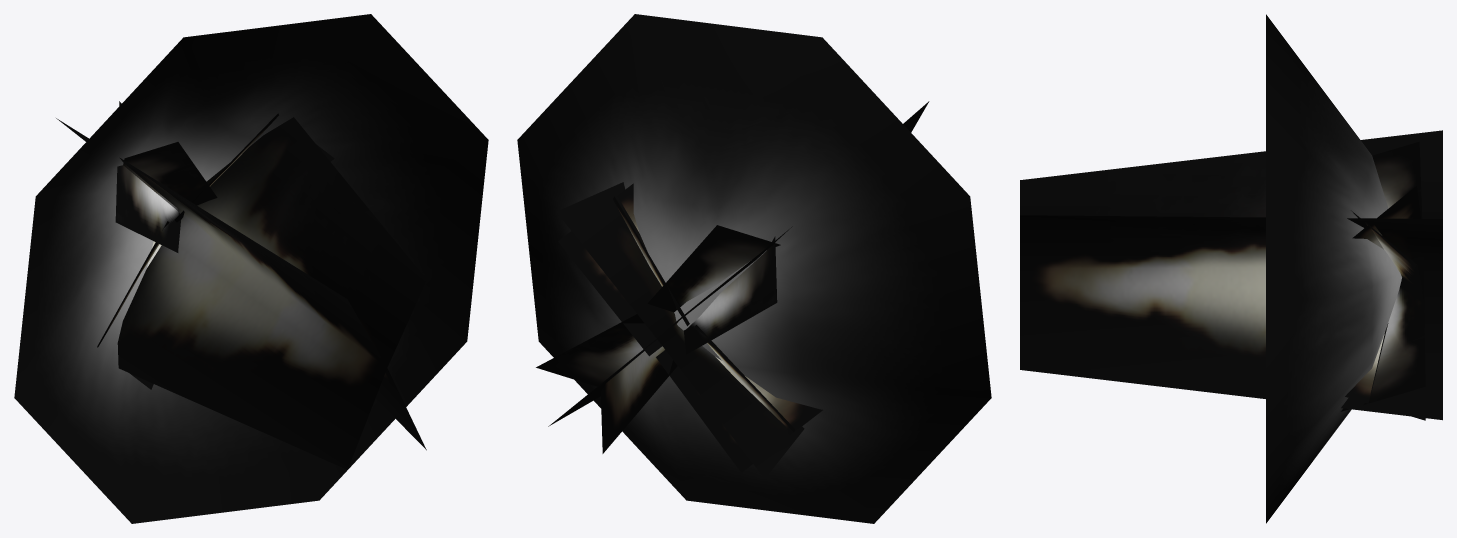
The model's file is muzzle_rif.FBX.
The picture shows the model from 3 angles, left to right: view 1: azimuth 30°, elevation 25°; view 2: azimuth 150°, elevation 25°; view 3: azimuth 270°, elevation 25°; orthographic projection. The views are drawn at different scales.
Visible parts, largest first — view 1: muzzle_rif; view 2: muzzle_rif; view 3: muzzle_rif.
Part boxes in pixels (x1,y1,x2,y2): muzzle_rif: (14, 14, 488, 523); muzzle_rif: (517, 14, 991, 523); muzzle_rif: (1020, 14, 1442, 523).
Bounding box in the file's own units: 117 × 117 × 99.81.
